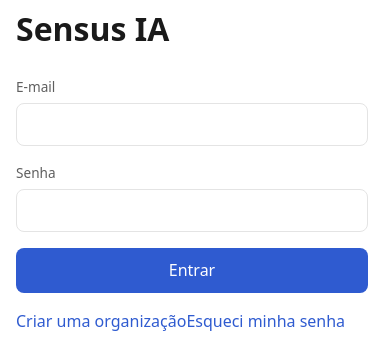
it: App › esqueci minha senha troca a tela de entrada pela de pedir o link
Click the button "Esqueci minha senha" at (266, 322), box [186,309,345,335]
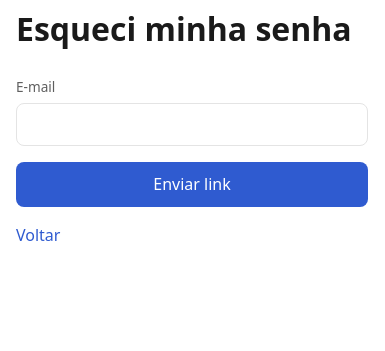
Result: the button "Enviar link" is shown at [16,162,368,207]
Result: the button "Entrar" is gone
